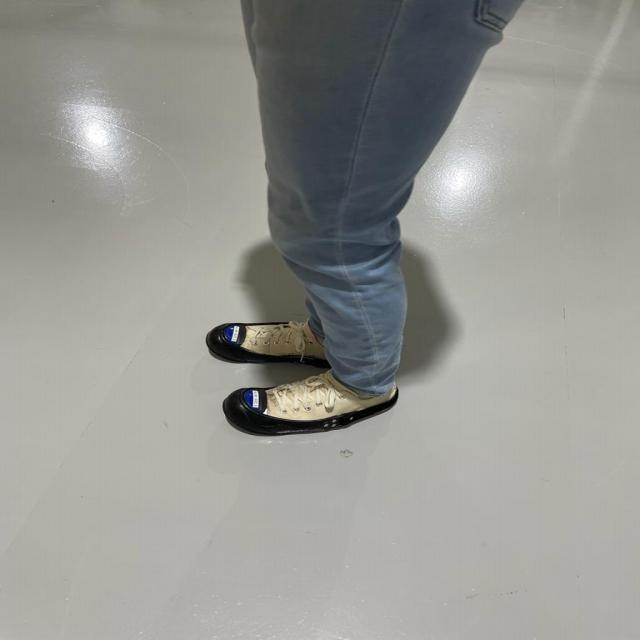shoes: (213, 386, 408, 447), (202, 310, 331, 376)
